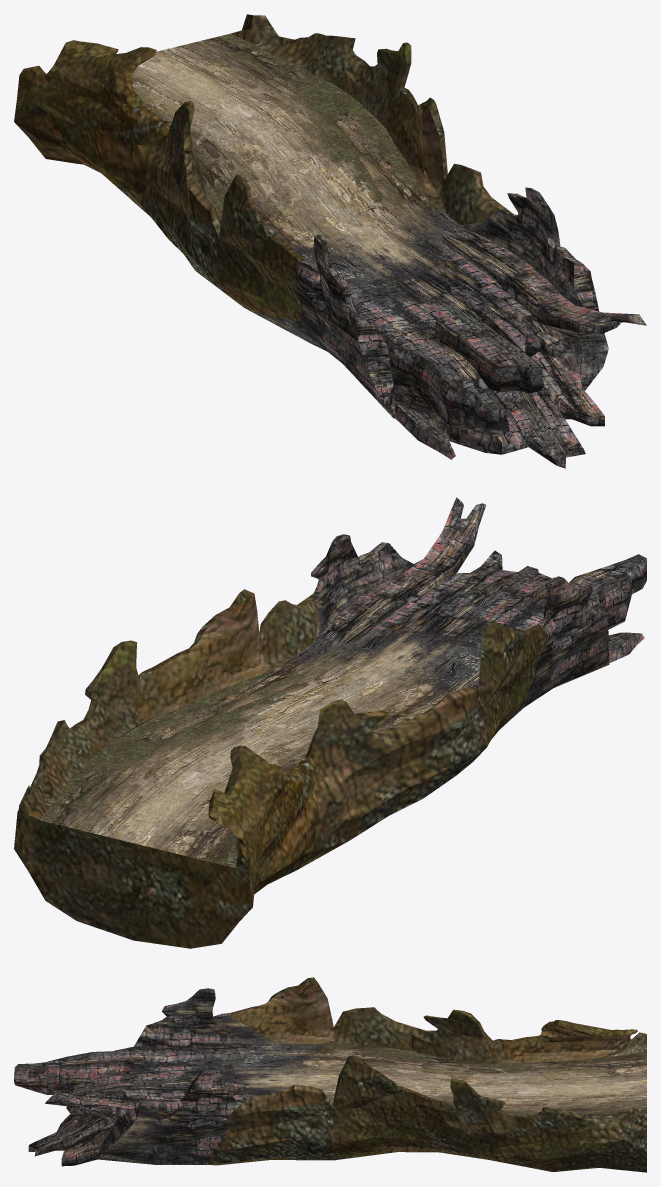
Rendered from bg_lut_lutomb_br01b_sm_esy.FBX.
The picture shows the model from 3 angles, top to bottom: view 1: azimuth 30°, elevation 25°; view 2: azimuth 150°, elevation 25°; view 3: azimuth 270°, elevation 25°; orthographic projection. The views are drawn at different scales.
Visible parts, largest first — view 1: bg_lut_lutomb_br01b_sm_esy; view 2: bg_lut_lutomb_br01b_sm_esy; view 3: bg_lut_lutomb_br01b_sm_esy.
Boxes of the visible parts, <box> form: bg_lut_lutomb_br01b_sm_esy: <box>14,14,646,468</box>; bg_lut_lutomb_br01b_sm_esy: <box>14,497,646,948</box>; bg_lut_lutomb_br01b_sm_esy: <box>14,977,646,1172</box>.
Size of the model in its own units: 394 by 237 by 1036.
